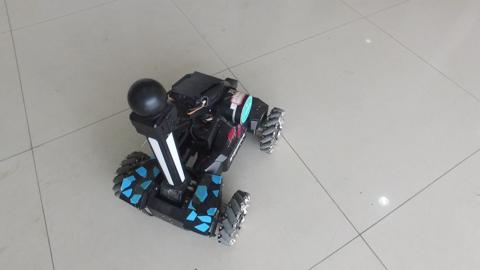chariot: (104, 52, 275, 231)
